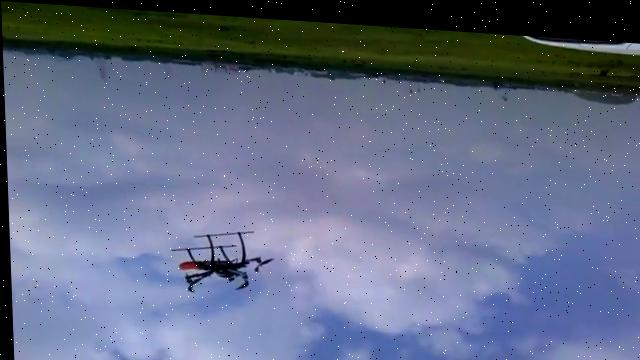drone: (166, 220, 273, 298)
